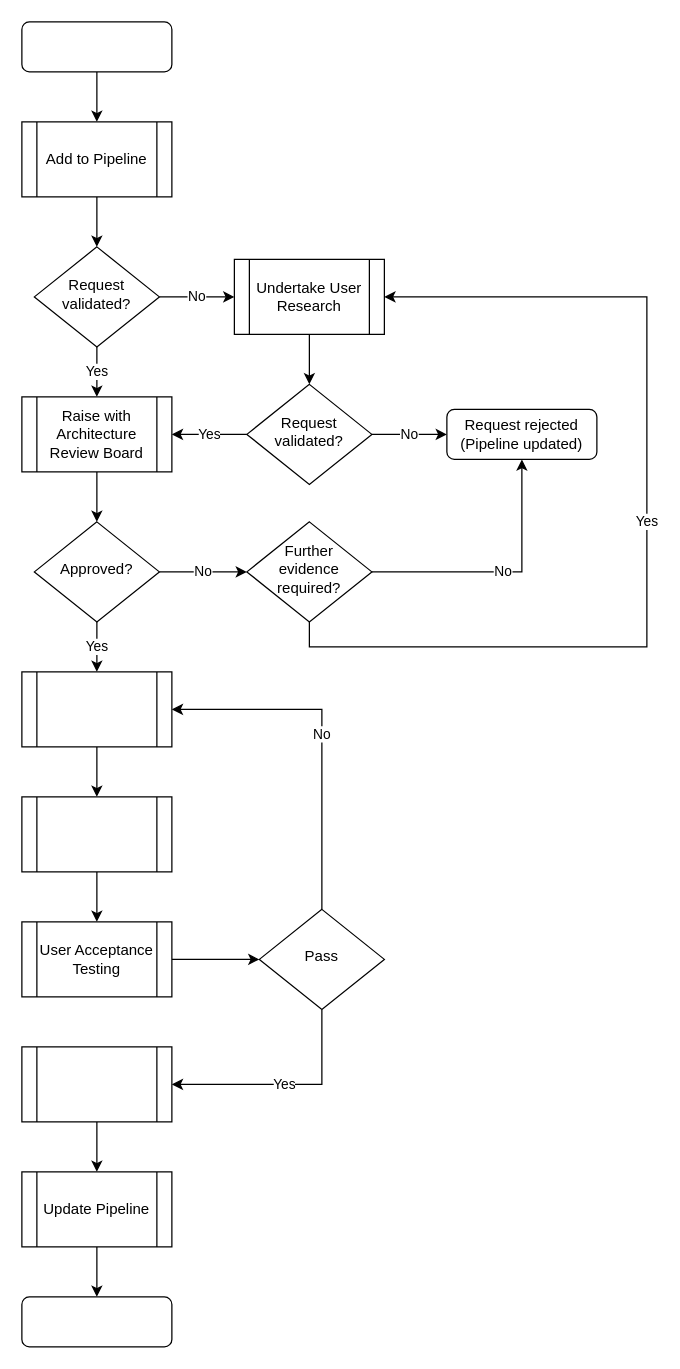
This 680x1369 diagram has some shape labels left out. Here are the shapes that lost their labels. From the top down, the centre of each, then its label:
At pixel 96 46: "New Feature Request raised".
At pixel 96 709: "Feature Development".
At pixel 96 834: "Feature Deployed (behind flag)".
At pixel 96 1084: "Training & Support processes updated".
At pixel 96 1321: "Feature Released".
